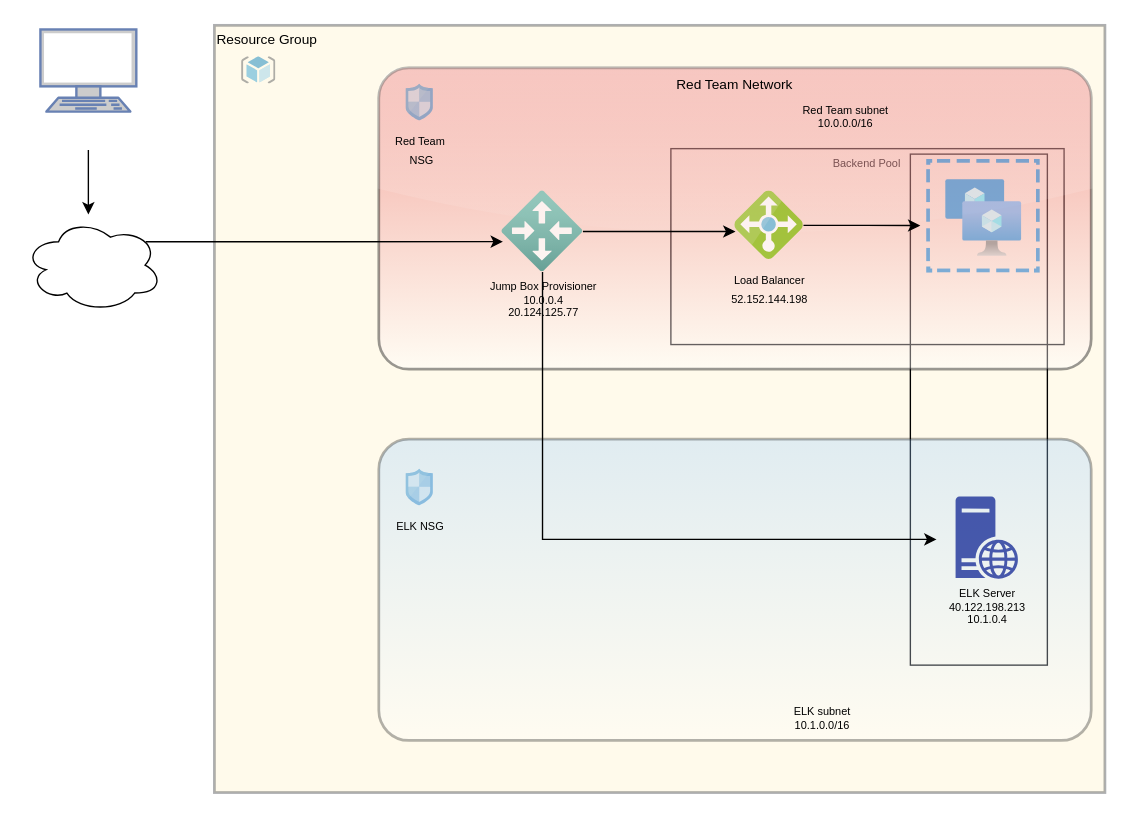
Image size: 1130x817. Some labels were removed from this diagram. Each missing label, with the box of its shape:
Ansible Container: (909, 153, 1047, 665)
ELK Vnet: (377, 437, 1092, 741)
Web Servers 10.0.0.5 10.0.0.6: (926, 159, 1040, 273)
Work Station 174.63.0.246: (38, 27, 137, 112)
